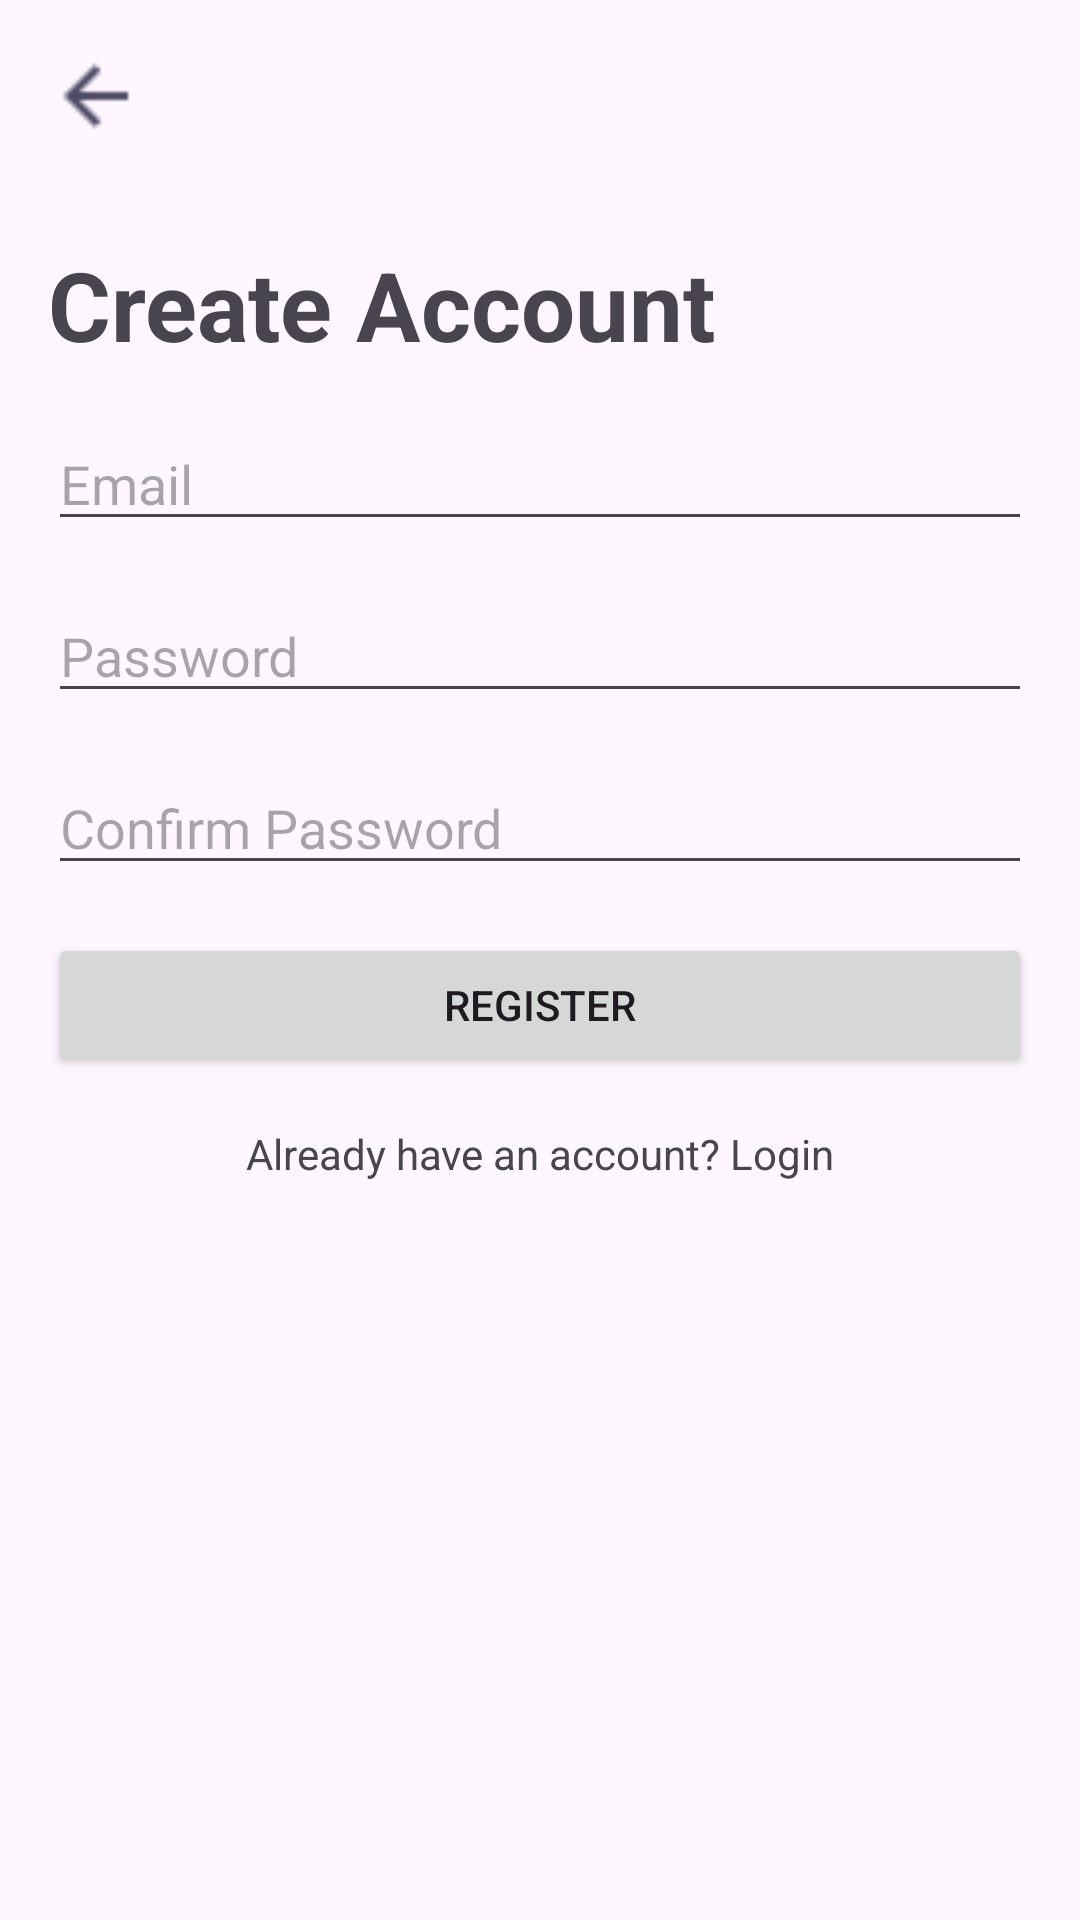

Point at icon controls on the screen. Image size 1080px×1920px, points as (x,y).
arrow back: (96,96)
